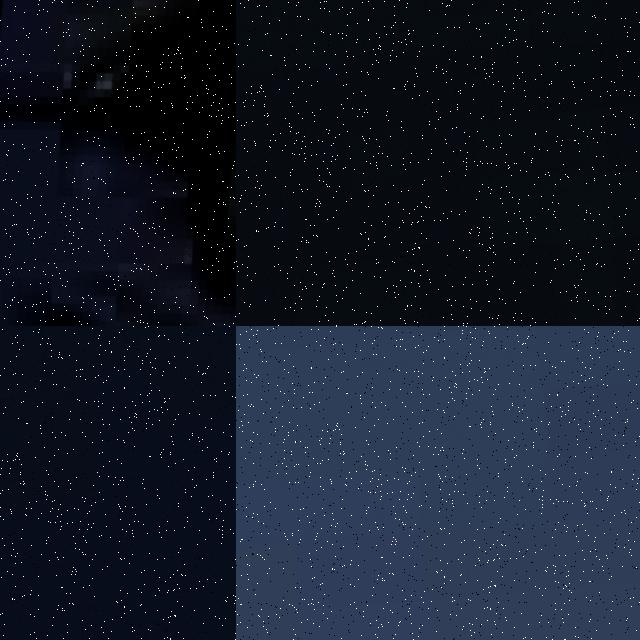drone: (0, 0, 236, 326)
